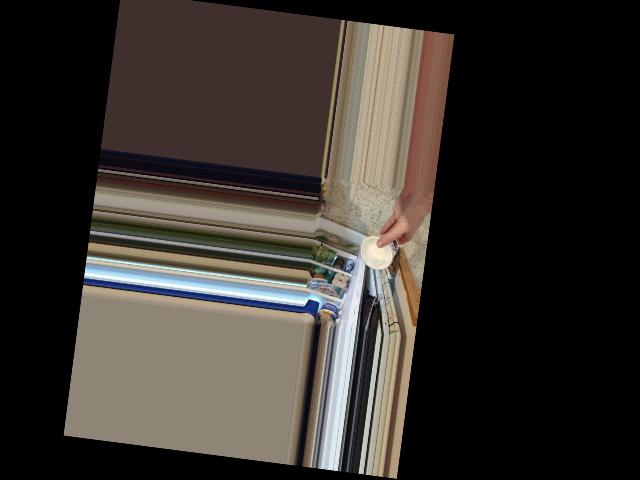cotage: (357, 230, 402, 274)
